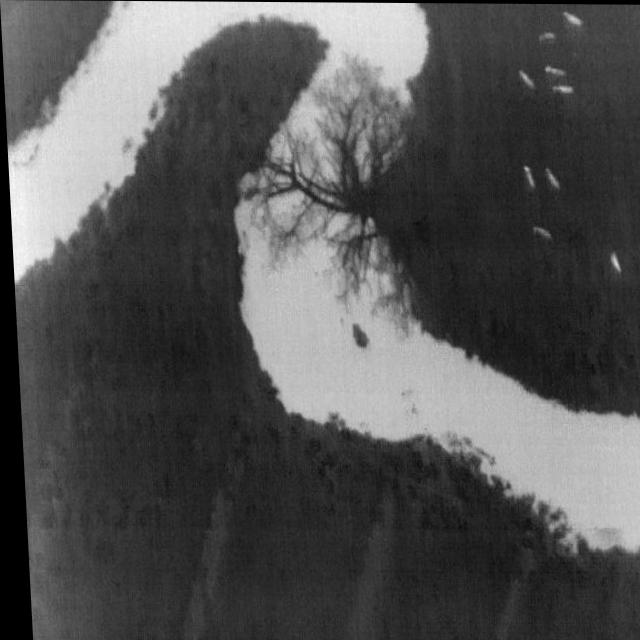deer: (543, 166, 559, 189), (521, 163, 534, 188), (517, 69, 534, 88), (543, 64, 566, 77), (563, 11, 583, 25), (607, 251, 619, 272), (530, 226, 550, 238), (537, 31, 556, 42), (551, 85, 573, 94)
